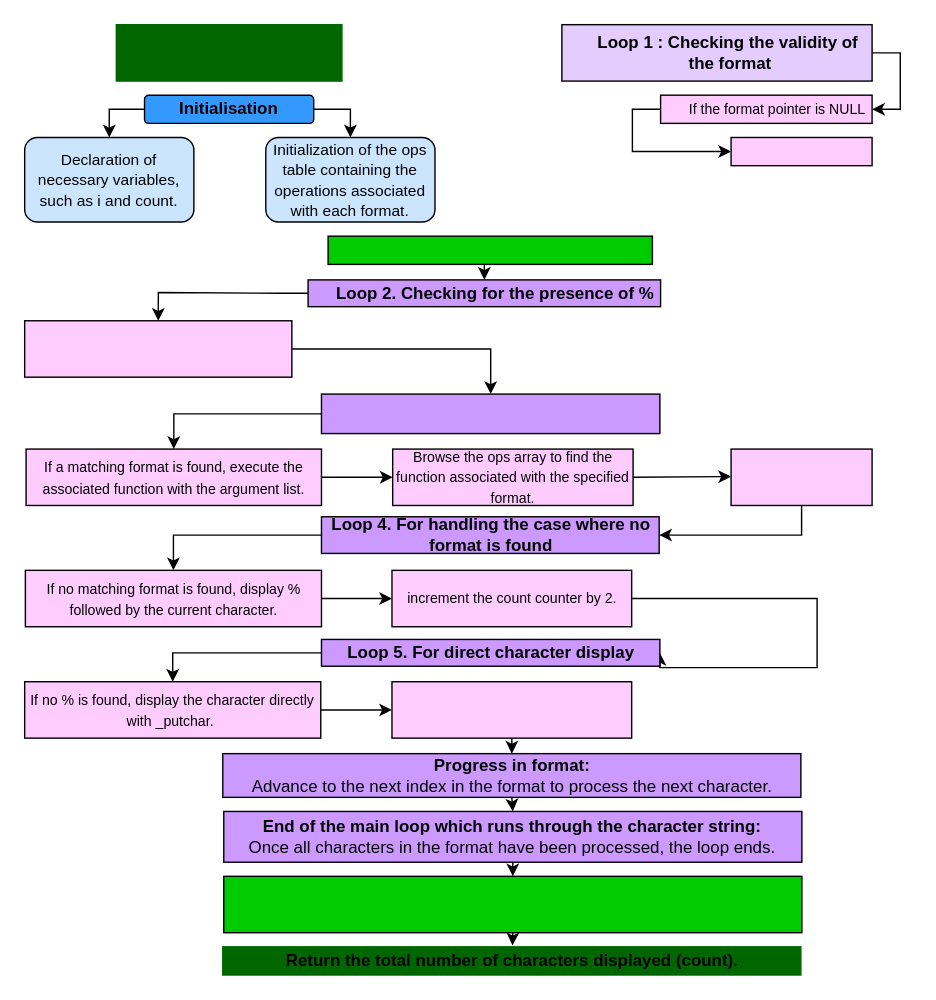
Some shapes in this 936 by 1000 pixel diagram are drawn without their labels. The centre of each missing label's shape, as x and y in pixels:
Add function result to count counter: point (801, 476)
Closing the argument list: Freeing resources from the argument list with va_end.: point (512, 904)
If the current character is %,: point (157, 348)
Increment the count counter.: point (511, 709)
Loop 3. To search for the specified format: point (490, 413)
Main Loop. To browse format string: point (489, 249)
Return -1: point (801, 151)
START _printf: point (228, 52)
